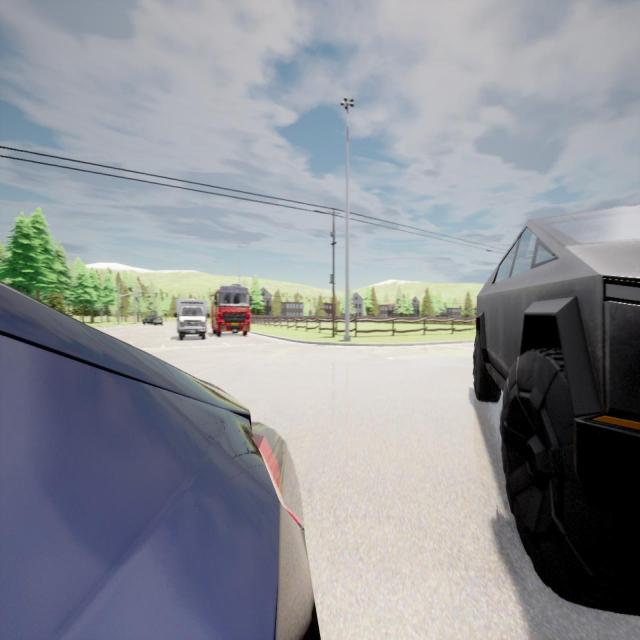Vehicle: (1, 279, 320, 640), (474, 211, 640, 613), (212, 283, 250, 336), (176, 297, 208, 342), (153, 313, 163, 329), (142, 312, 153, 326)
